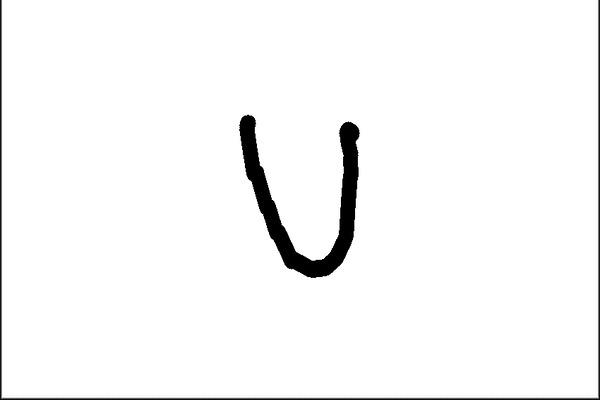U: (218, 107, 368, 283)
